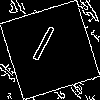I: (25, 25, 58, 71)
